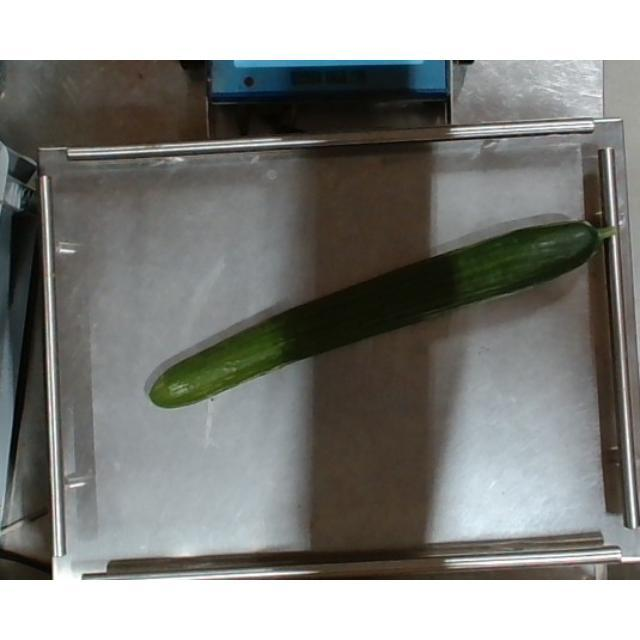cucumber: (134, 212, 622, 408)
